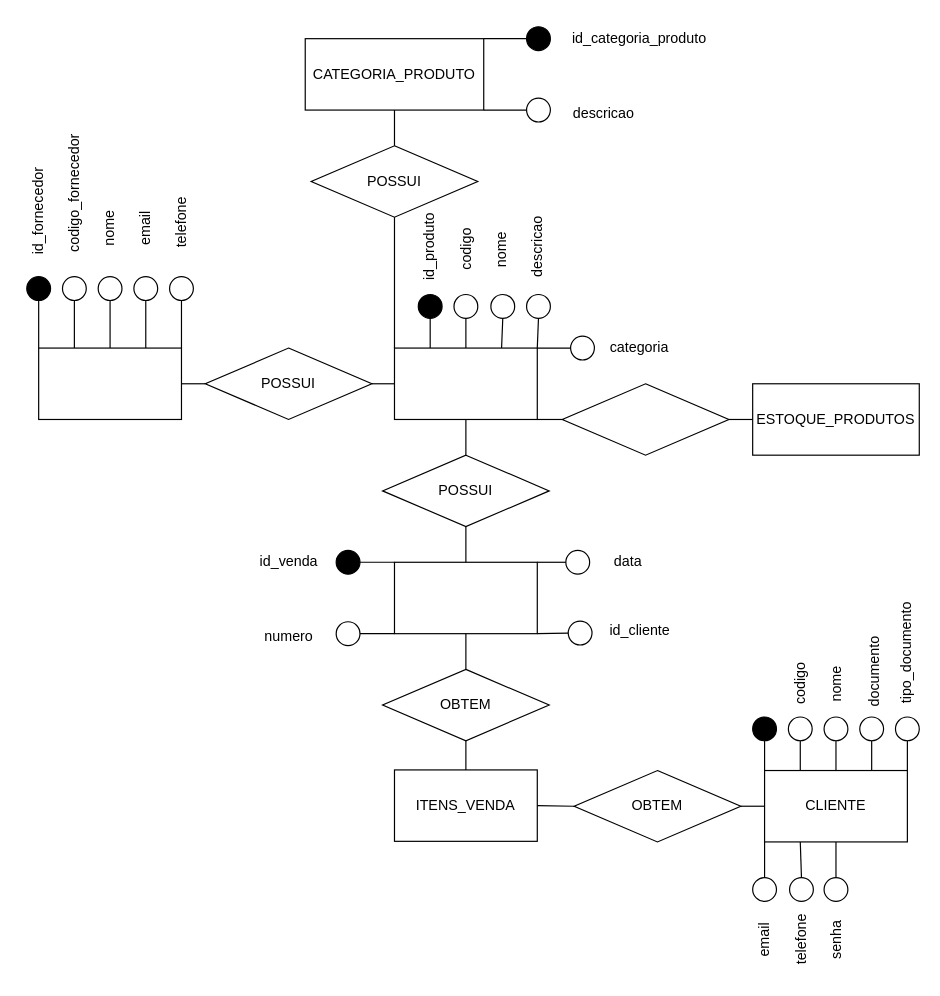
This 940x996 diagram has some shape labels left out. Here are the shapes that lost their labels. From the top down, the centre of each, then its label:
At (109,383): "FORNECEDOR".
At (465,383): "PRODUTO".
At (645,419): "ESTA".
At (465,597): "VENDA".
